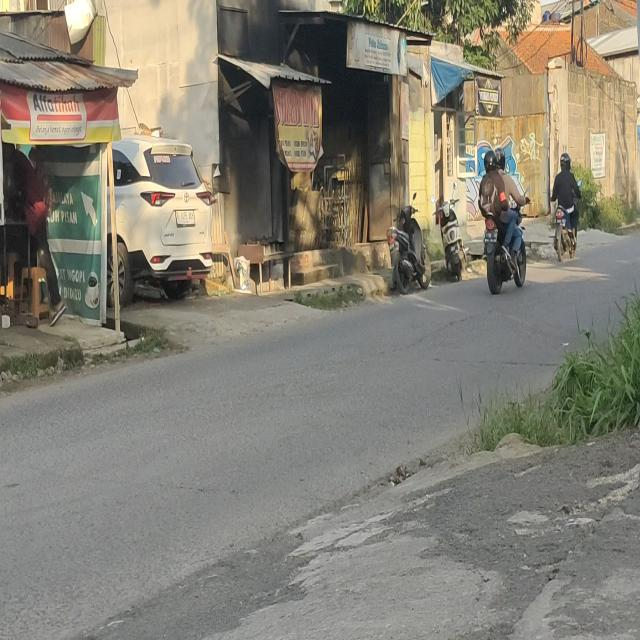helmet: (560, 152, 573, 173), (496, 146, 506, 170), (485, 150, 496, 168)
